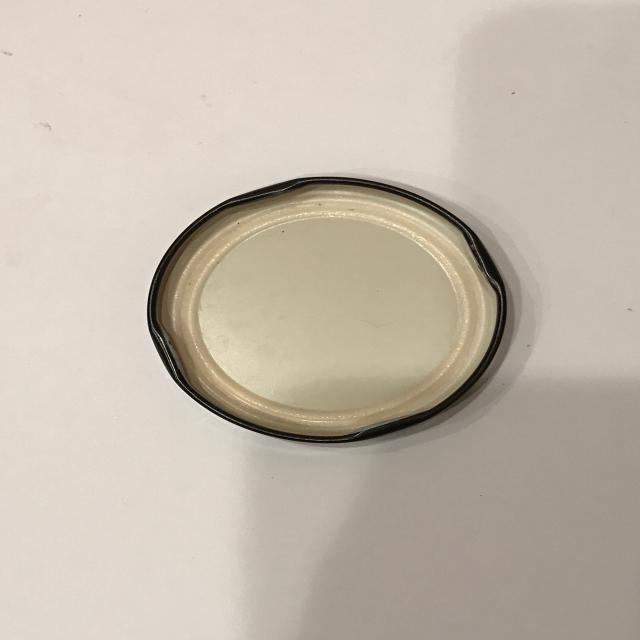metal: (146, 174, 509, 445)
